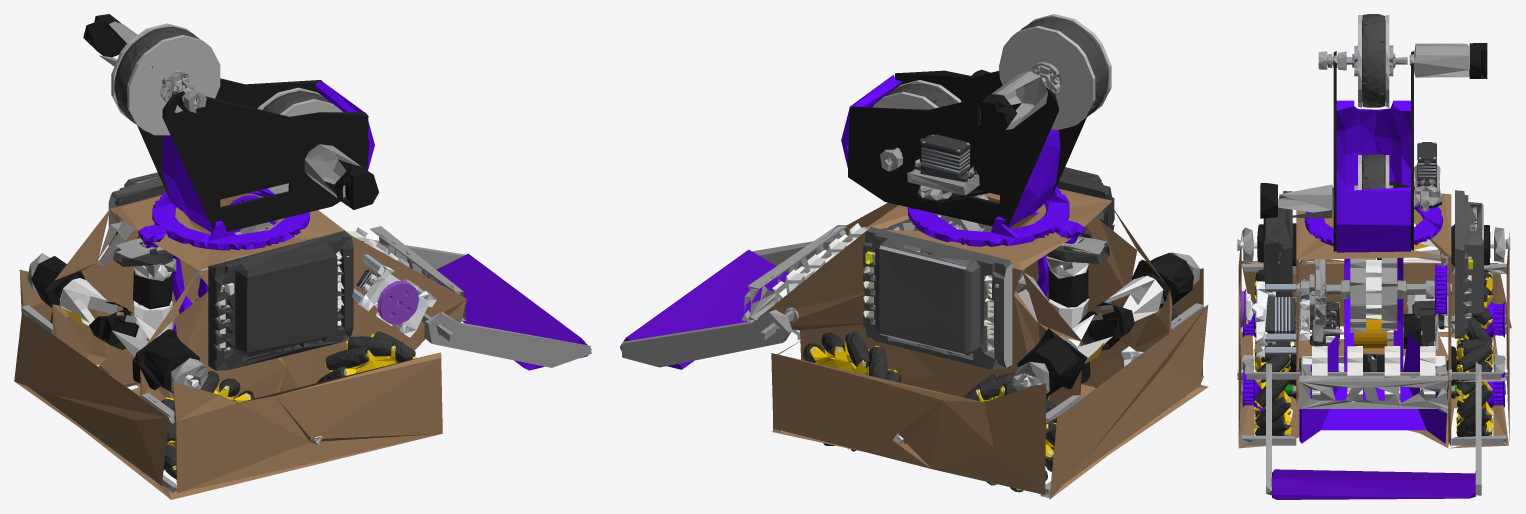
File: bumble-v.glb
3 views of the same model, side by side, from view 1: azimuth 30°, elevation 25°; view 2: azimuth 150°, elevation 25°; view 3: azimuth 270°, elevation 25° (orthographic). The views are drawn at different scales.
Parts seen in each view (by area): view 1: body, turret, flywheel_top, wheel_fr, flywheel, wheel_br, intake_front; view 2: body, turret, flywheel_top, wheel_fl, intake_front, flywheel, wheel_bl, intake_back; view 3: body, turret, intake_back, intake_front, flywheel_top, wheel_fl, wheel_fr, wheel_bl, flywheel, wheel_br.
Boxes of the visible parts, x1,y1,x2,y2 form: body: [14, 172, 591, 499]; turret: [83, 14, 378, 250]; flywheel_top: [111, 23, 220, 135]; wheel_fr: [316, 331, 416, 383]; flywheel: [257, 87, 342, 194]; wheel_br: [161, 371, 254, 479]; intake_front: [341, 227, 453, 341]; body: [620, 167, 1208, 499]; turret: [841, 69, 1086, 246]; flywheel_top: [998, 14, 1111, 129]; wheel_fl: [803, 331, 900, 451]; intake_front: [760, 223, 867, 340]; flywheel: [873, 80, 961, 109]; wheel_bl: [964, 372, 1057, 492]; intake_back: [883, 194, 992, 231]; body: [1237, 190, 1511, 499]; turret: [1260, 43, 1487, 252]; intake_back: [1295, 258, 1451, 332]; intake_front: [1246, 346, 1501, 402]; flywheel_top: [1352, 14, 1395, 107]; wheel_fl: [1451, 339, 1505, 436]; wheel_fr: [1241, 341, 1296, 435]; wheel_bl: [1451, 269, 1505, 364]; flywheel: [1354, 154, 1393, 190]; wheel_br: [1242, 269, 1296, 364].
Size of the model in its own units: 0.4587 by 0.4038 by 0.2804.
